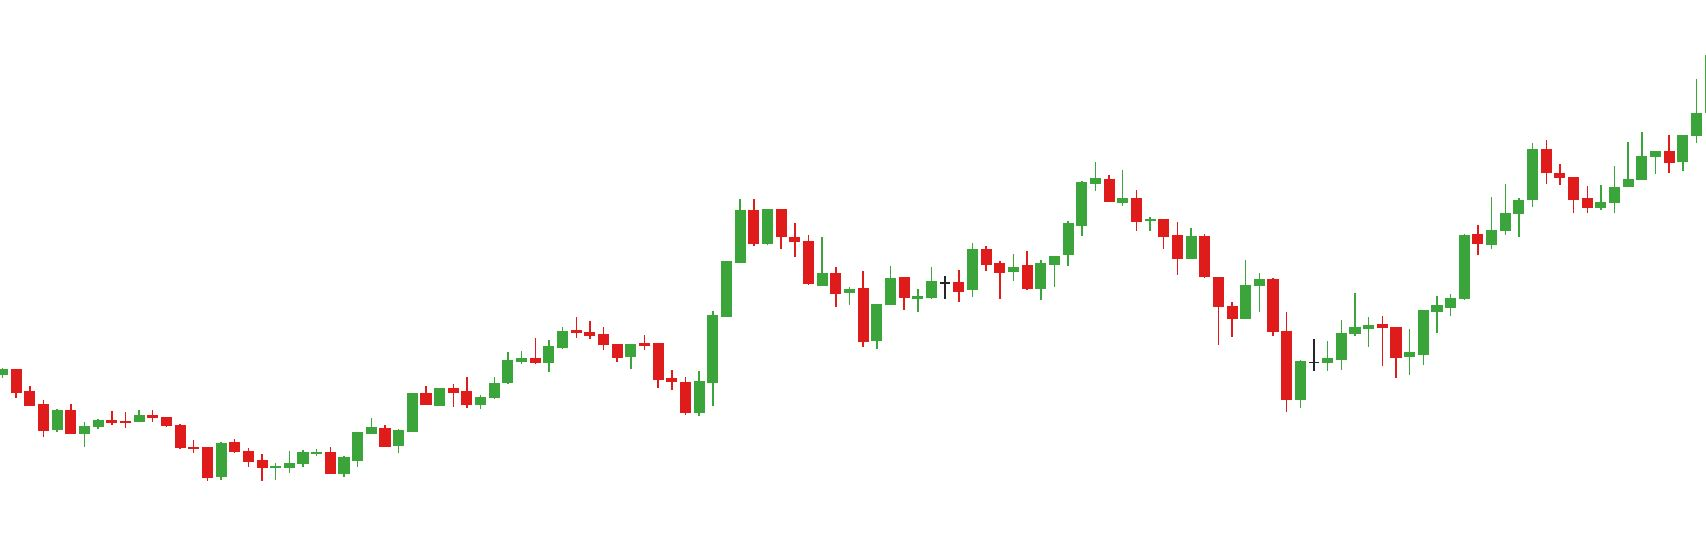buy: (1321, 308, 1413, 385)
sell: (734, 159, 1114, 248)
